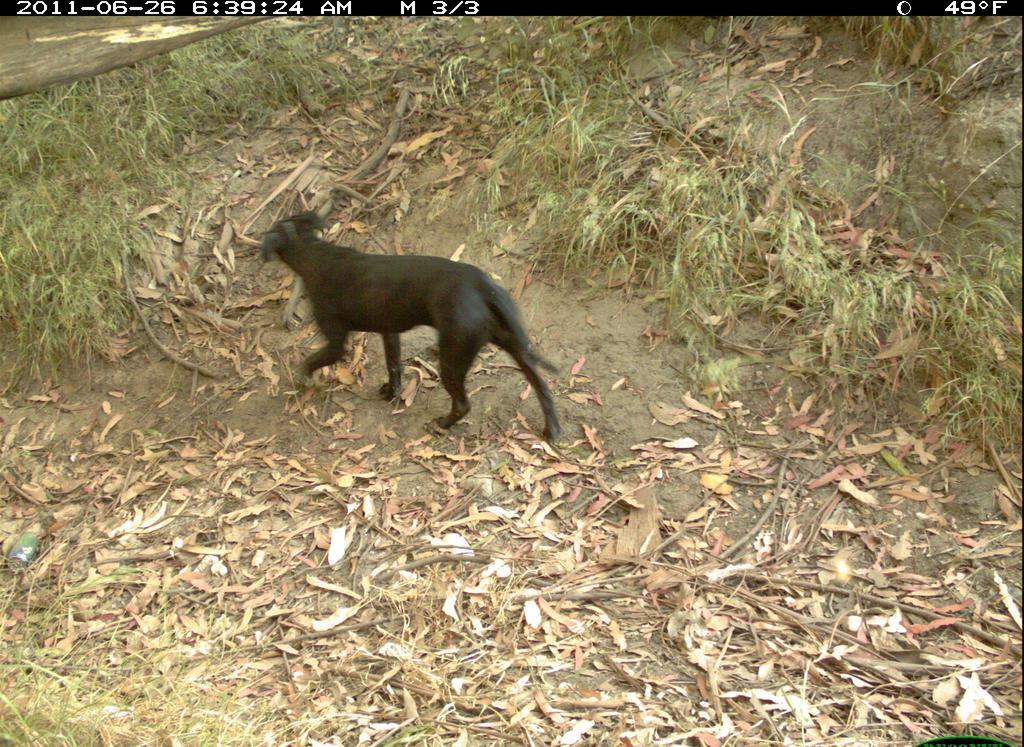dog: (242, 209, 575, 443)
